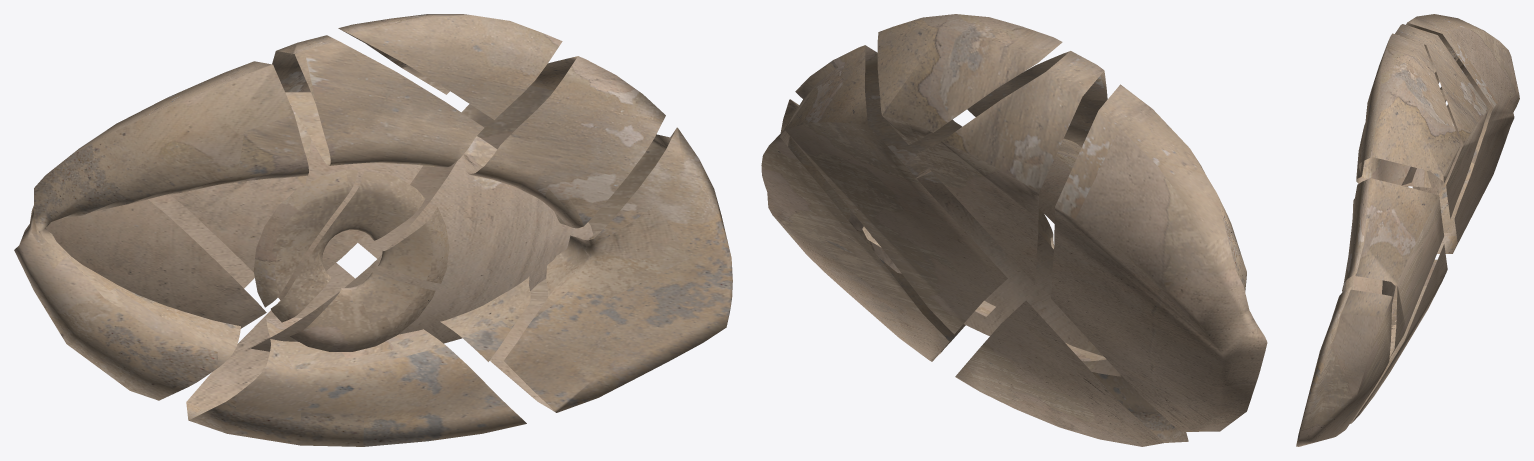
The model's file is eye-L-Broken.fbx.
3 views of the same model, side by side, from view 1: azimuth 30°, elevation 25°; view 2: azimuth 150°, elevation 25°; view 3: azimuth 270°, elevation 25° (orthographic). The views are drawn at different scales.
Parts seen in each view (by area): view 1: Eye_L.017, Eye_L.004, Eye_L.015, Eye_L.021, Eye_L.001, Eye_L.003, Eye_L.020, Eye_L.018, Eye_L.002, Eye_L.007, Eye_L.019, Eye_L.008 (+2 smaller); view 2: Eye_L.017, Eye_L.021, Eye_L.003, Eye_L.015, Eye_L.018, Eye_L.004, Eye_L.001, Eye_L.002; view 3: Eye_L.021, Eye_L.018, Eye_L.004, Eye_L.017, Eye_L.003, Eye_L.015, Eye_L.020.
Part boxes in pixels (box(x1,y1,x2,y2)): Eye_L.017: box(14, 61, 308, 400); Eye_L.004: box(489, 127, 732, 412); Eye_L.015: box(186, 263, 526, 446); Eye_L.021: box(358, 56, 665, 258); Eye_L.001: box(251, 136, 594, 351); Eye_L.003: box(272, 35, 484, 167); Eye_L.020: box(46, 199, 266, 328); Eye_L.018: box(338, 14, 562, 119); Eye_L.002: box(170, 107, 422, 300); Eye_L.007: box(290, 272, 435, 351); Eye_L.019: box(253, 169, 358, 307); Eye_L.008: box(271, 170, 425, 322); Eye_L.017: box(1051, 84, 1267, 431); Eye_L.021: box(785, 45, 1007, 334); Eye_L.003: box(916, 51, 1107, 283); Eye_L.015: box(955, 300, 1188, 446); Eye_L.018: box(877, 14, 1062, 144); Eye_L.004: box(761, 99, 965, 361); Eye_L.001: box(849, 156, 1121, 376); Eye_L.002: box(1038, 152, 1077, 223); Eye_L.021: box(1342, 178, 1443, 357); Eye_L.018: box(1358, 33, 1460, 182); Eye_L.004: box(1296, 287, 1392, 446); Eye_L.017: box(1406, 14, 1519, 253); Eye_L.003: box(1356, 24, 1488, 218); Eye_L.015: box(1350, 244, 1447, 423); Eye_L.020: box(1412, 74, 1492, 194).
Bounding box in the file's own units: 3.42 × 2.18 × 1.29.
